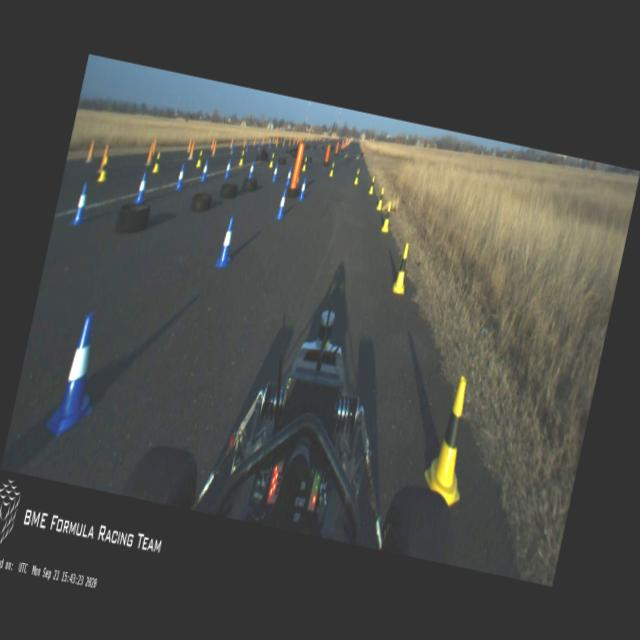blue_cone: (42, 309, 112, 444), (214, 213, 240, 270), (70, 180, 92, 228), (133, 172, 150, 206), (274, 188, 288, 222), (174, 163, 186, 191), (296, 174, 308, 200), (199, 158, 210, 182), (222, 156, 232, 180), (270, 161, 280, 182), (247, 159, 256, 180), (284, 165, 292, 187)
unknown_cone: (97, 143, 109, 174), (84, 137, 97, 164), (144, 141, 154, 166), (188, 140, 195, 160), (150, 138, 157, 156), (211, 140, 217, 156), (186, 138, 192, 153), (210, 136, 215, 152), (230, 140, 234, 154), (229, 138, 233, 148)
yellow_cone: (418, 371, 484, 509), (390, 242, 414, 296), (380, 202, 393, 234), (96, 156, 110, 183), (150, 152, 162, 174), (376, 186, 386, 212), (367, 175, 376, 196), (195, 150, 204, 168), (352, 167, 360, 185), (238, 149, 245, 166), (328, 161, 335, 177), (268, 152, 274, 168), (302, 156, 308, 172)
